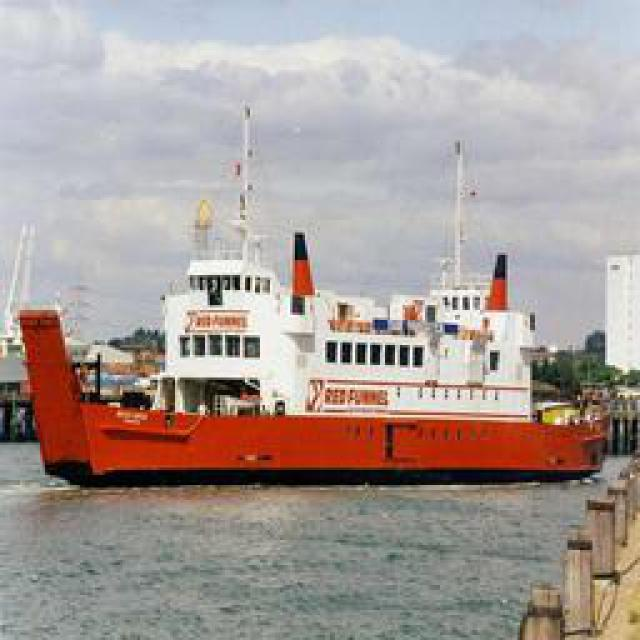Ship: (25, 112, 603, 485)
